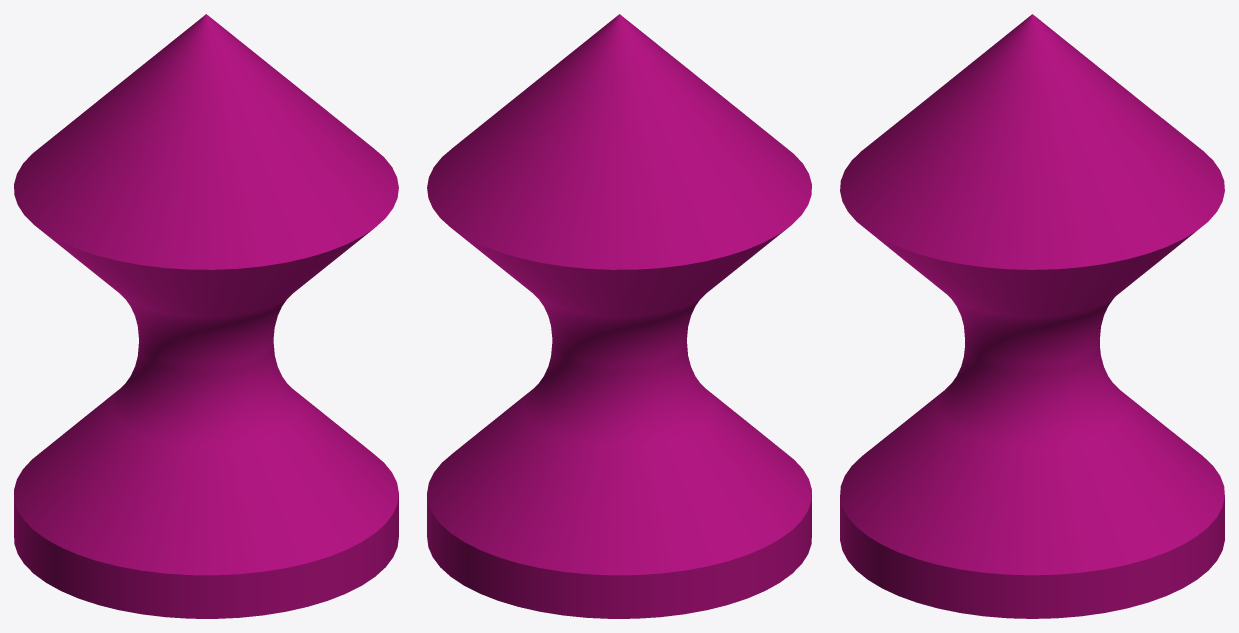
Rendered from Fate Game Piece V3 Fandango.glb.
The picture shows the model from 3 angles, left to right: view 1: azimuth 30°, elevation 25°; view 2: azimuth 150°, elevation 25°; view 3: azimuth 270°, elevation 25°; orthographic projection.
Visible parts, largest first — view 1: Solid1; view 2: Solid1; view 3: Solid1.
Boxes of the visible parts, <box> form: Solid1: <box>14,14,398,618</box>; Solid1: <box>427,14,811,618</box>; Solid1: <box>840,14,1224,618</box>.
Bounding box in the file's own units: 0.0254 × 0.0381 × 0.0254.
